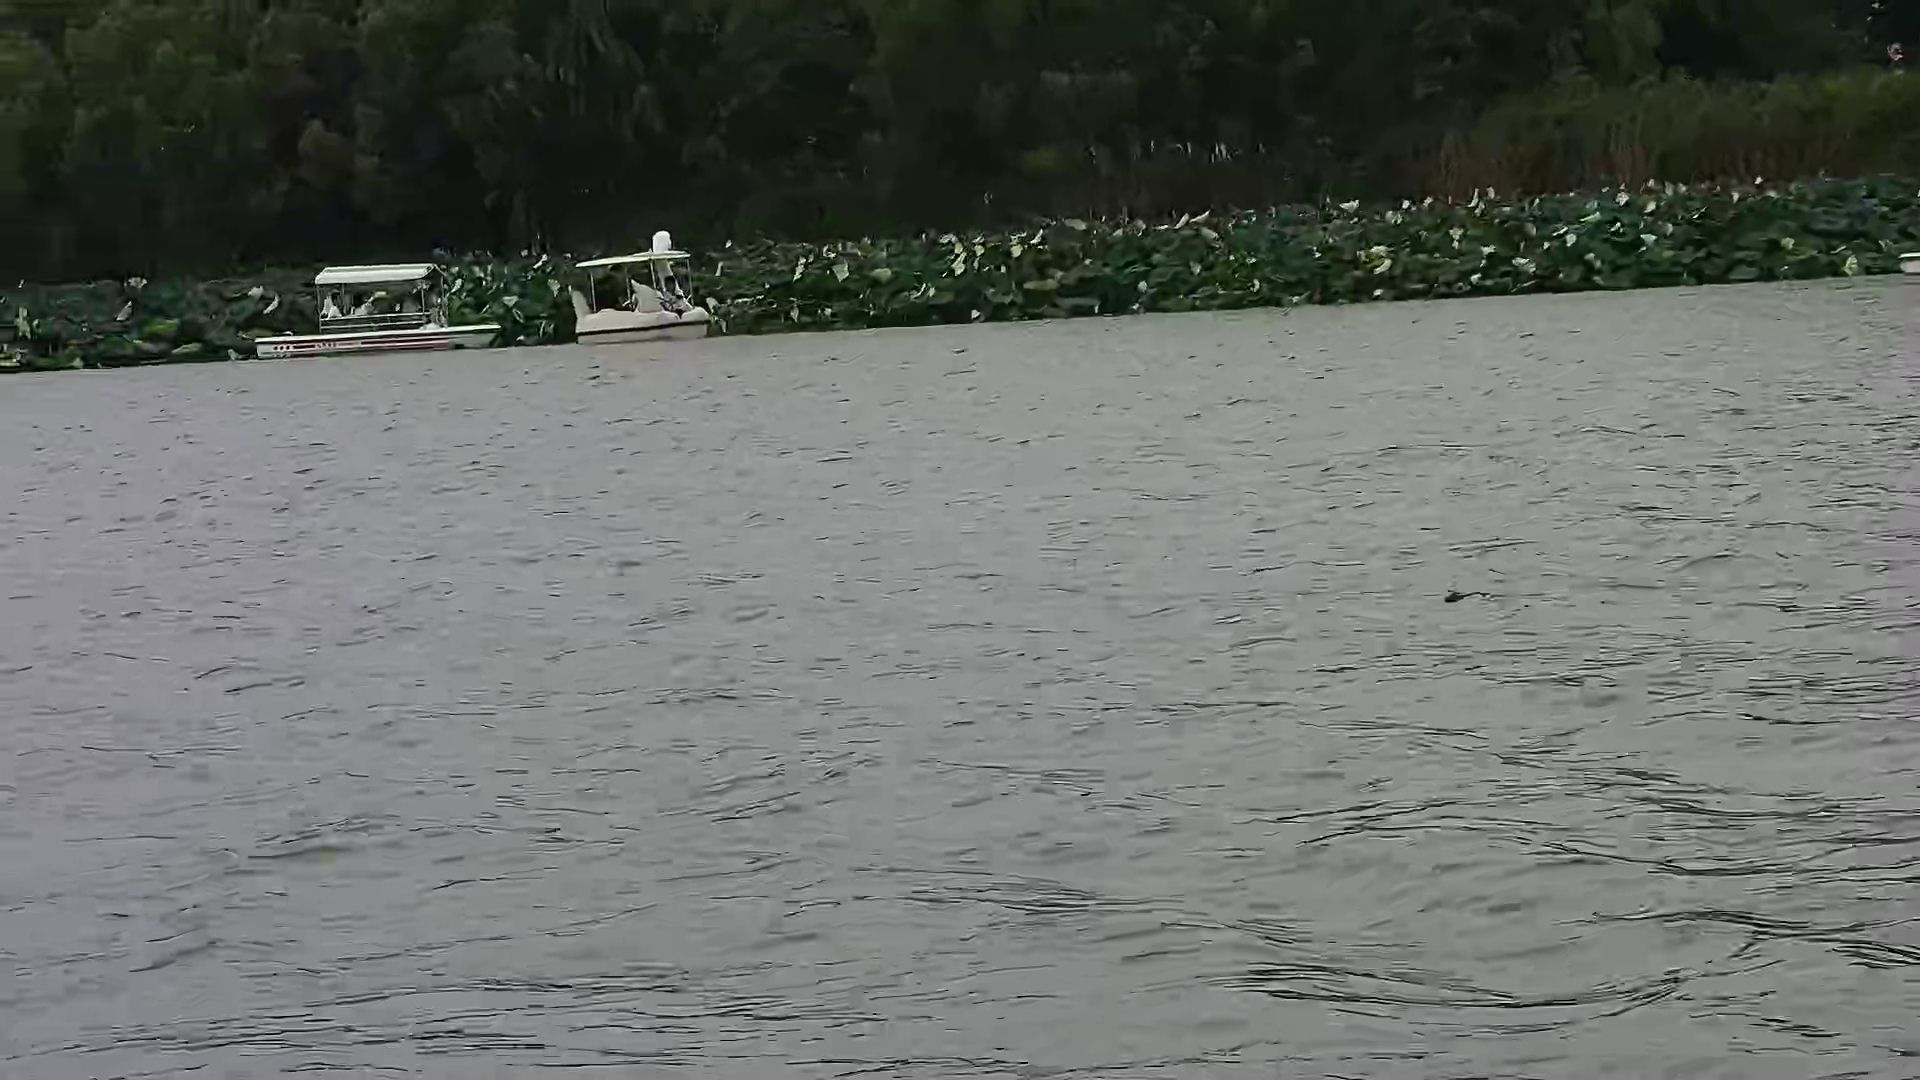boat: (237, 243, 502, 345), (563, 229, 717, 344)
